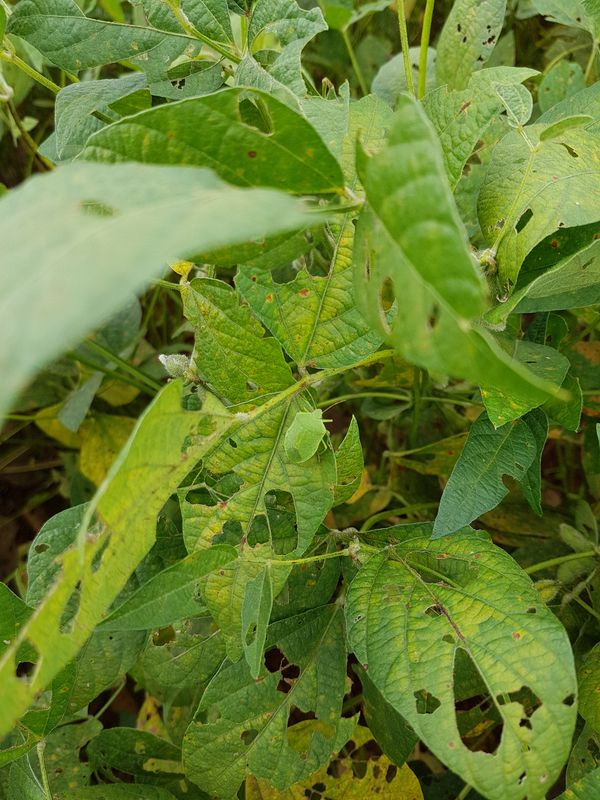Nezara_viridula_adulto: (278, 401, 341, 470)
